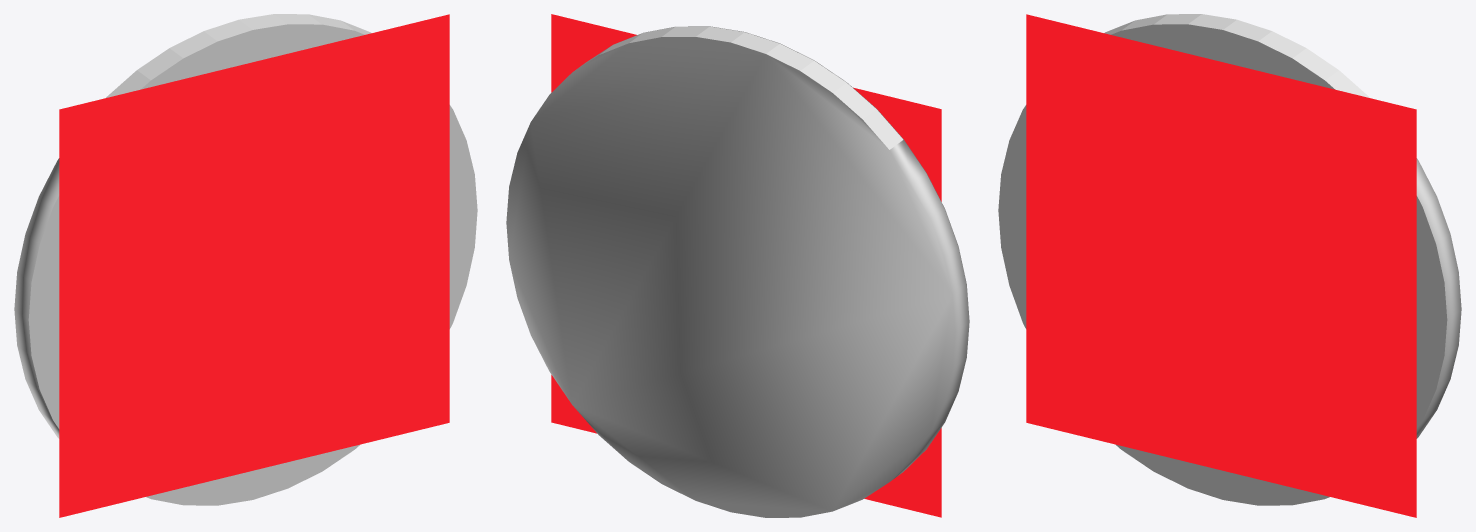
Rendered from sign_sake_medallion.glb.
3 views of the same model, side by side, from view 1: azimuth 30°, elevation 25°; view 2: azimuth 150°, elevation 25°; view 3: azimuth 330°, elevation 25° (orthographic).
Parts seen in each view (by area): view 1: sign_sake_medallion_LOD0; view 2: sign_sake_medallion_LOD0; view 3: sign_sake_medallion_LOD0.
Boxes of the visible parts, x1,y1,x2,y2 form: sign_sake_medallion_LOD0: (14,14,477,517); sign_sake_medallion_LOD0: (506,14,969,517); sign_sake_medallion_LOD0: (998,14,1461,517).
Size of what is drawn, in the model's own units: 0.92 by 0.92 by 0.056.
